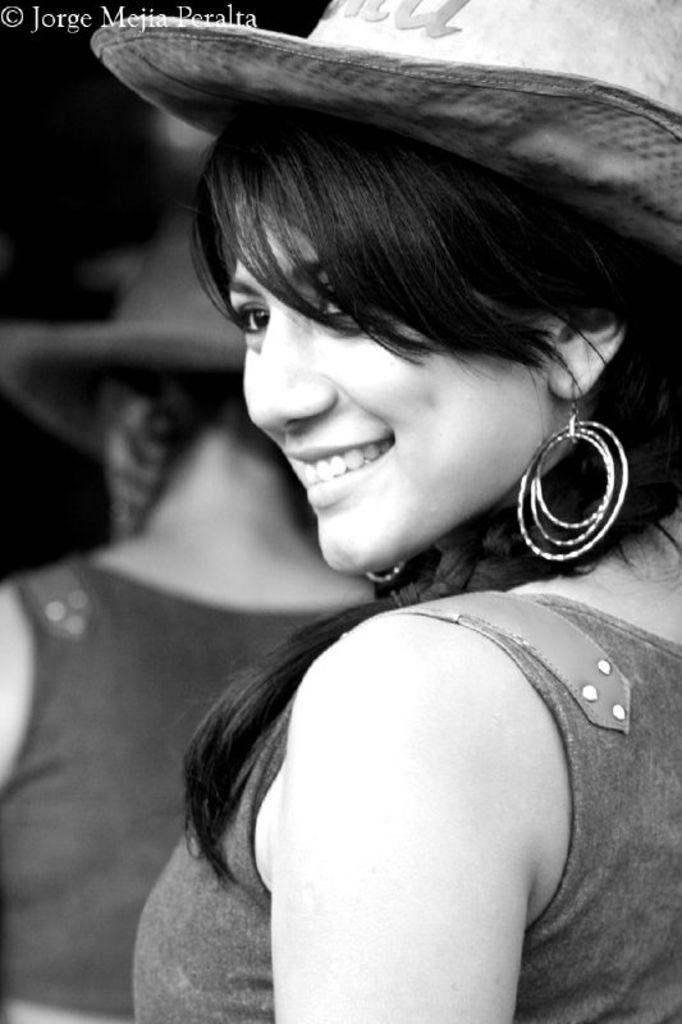Hat: (84, 0, 679, 267)
